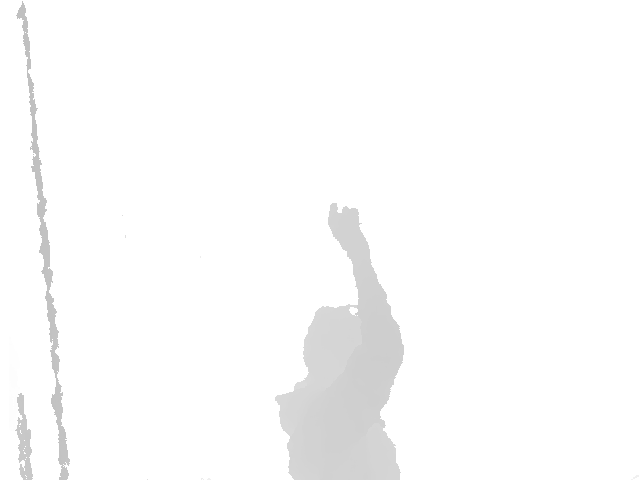hand: (328, 202, 372, 261)
head: (302, 306, 387, 385)
person: (273, 202, 406, 480)
